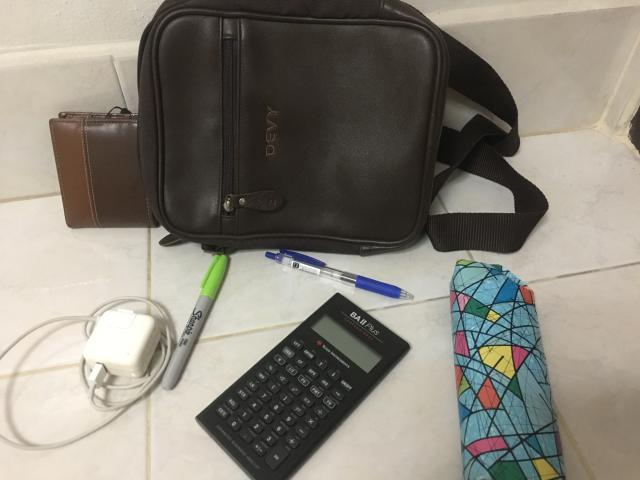Pen: (161, 255, 228, 390), (265, 250, 412, 299)
Wallet: (49, 106, 158, 229)
wire: (0, 296, 172, 450)
